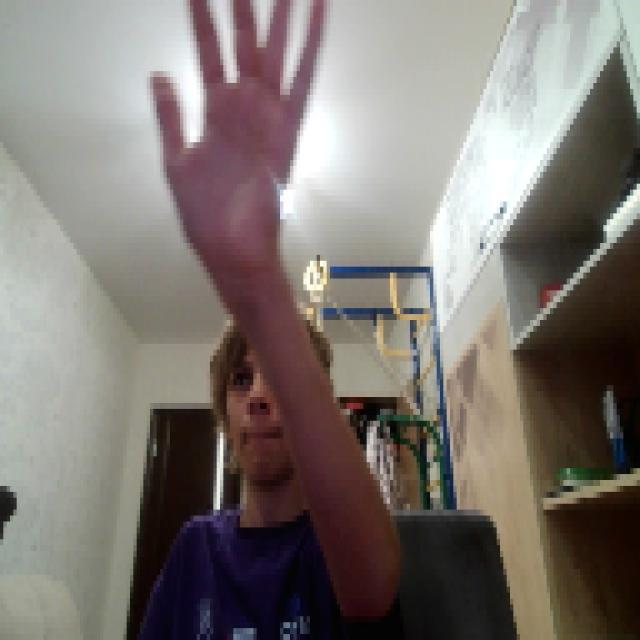hand: (137, 0, 323, 261)
